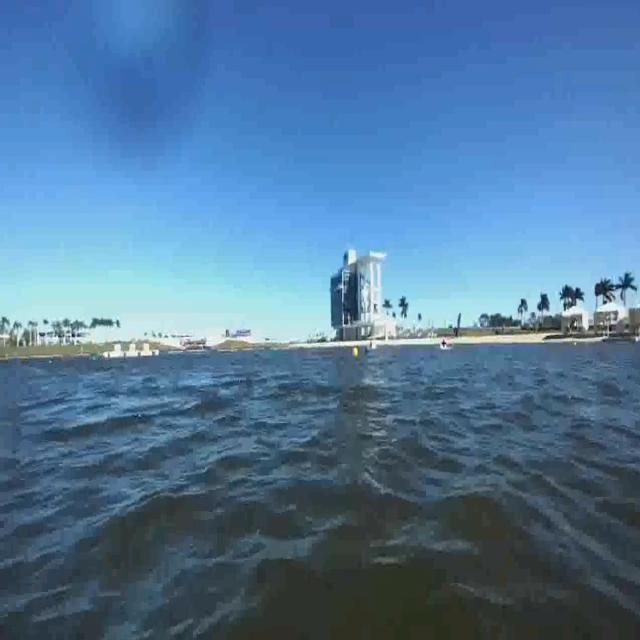yellow-buoy: (352, 345, 360, 359)
